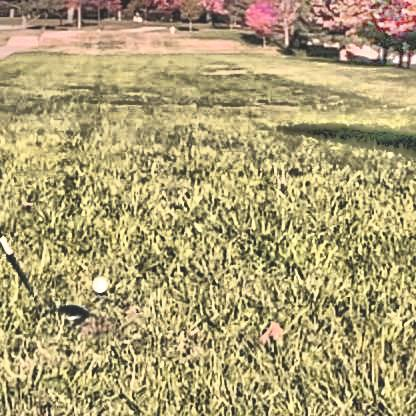golfball: (90, 273, 107, 290)
